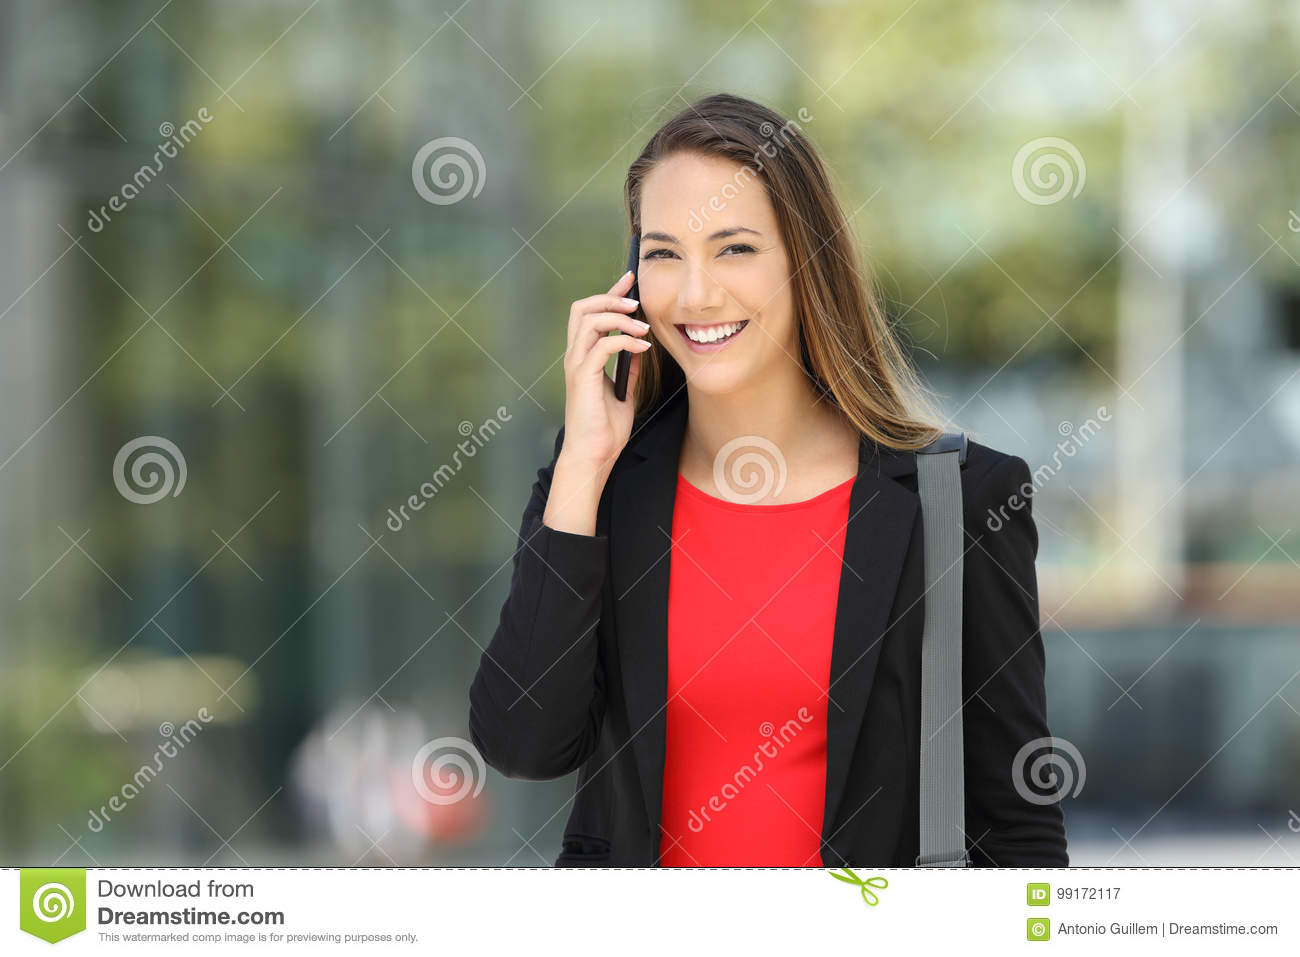phone: (607, 215, 644, 422)
talk: (562, 215, 771, 472)
